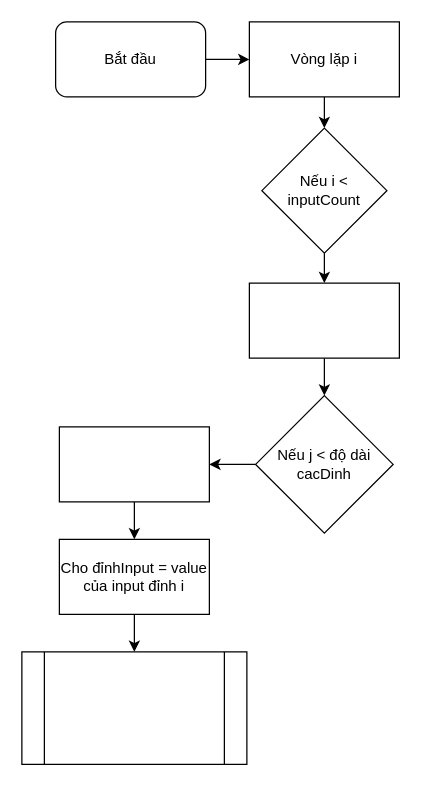
The diagram is 421 pixels wide and 786 high, and some of its shapes have lost their labels. Here are the shapes that lost their labels. From the top down, the centre of each, then its label:
point 323,320: Vòng lặp j
point 133,464: Cho đỉnhTemp = cacDinh[ j ]
point 134,707: ThemCanh(dinhTemp, dinhInput)
